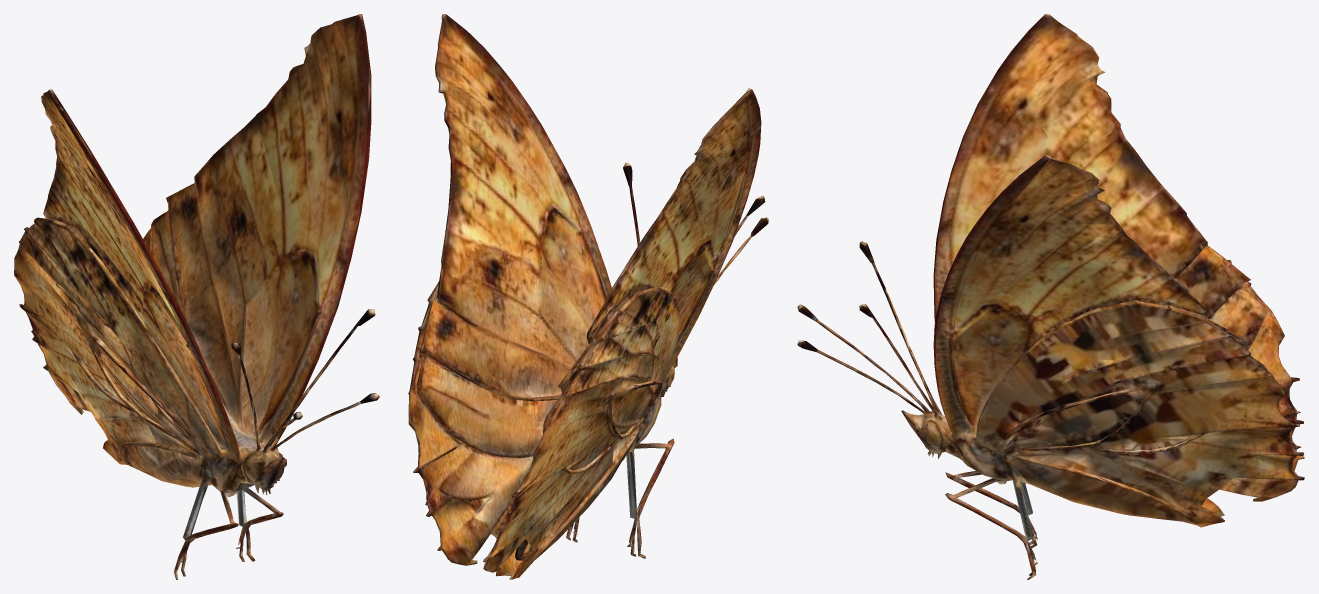
Rendered from leafwing.glb.
3 views of the same model, side by side, from view 1: azimuth 30°, elevation 25°; view 2: azimuth 150°, elevation 25°; view 3: azimuth 270°, elevation 25° (orthographic). The views are drawn at different scales.
Visible parts, largest first — view 1: leafwing; view 2: leafwing; view 3: leafwing.
Part boxes in pixels (x1,y1,x2,y2): leafwing: [14, 14, 379, 579]; leafwing: [408, 14, 768, 579]; leafwing: [797, 14, 1304, 579].
Size of the model in its own units: 0.6412 by 1 by 0.9601.
Materials: 1 (1 with a texture image).
